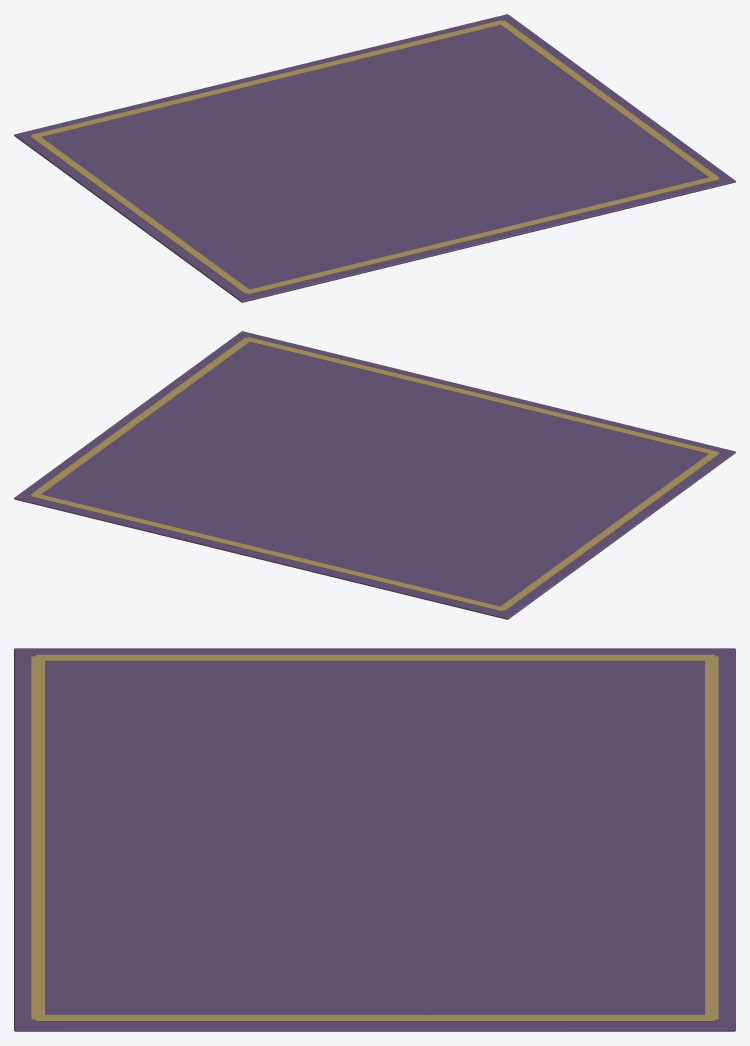
Rendered from floor-decor.glb.
The picture shows the model from 3 angles, top to bottom: view 1: azimuth 30°, elevation 25°; view 2: azimuth 150°, elevation 25°; view 3: azimuth 270°, elevation 25°; orthographic projection. The views are drawn at different scales.
Parts seen in each view (by area): view 1: wizards-workshop floor-decor; view 2: wizards-workshop floor-decor; view 3: wizards-workshop floor-decor.
Part boxes in pixels (<box>): wizards-workshop floor-decor: <box>14,14,735,302</box>; wizards-workshop floor-decor: <box>14,331,735,619</box>; wizards-workshop floor-decor: <box>14,648,735,1031</box>.
Bounding box in the file's own units: 5.25 × 0.0245 × 4.2.
